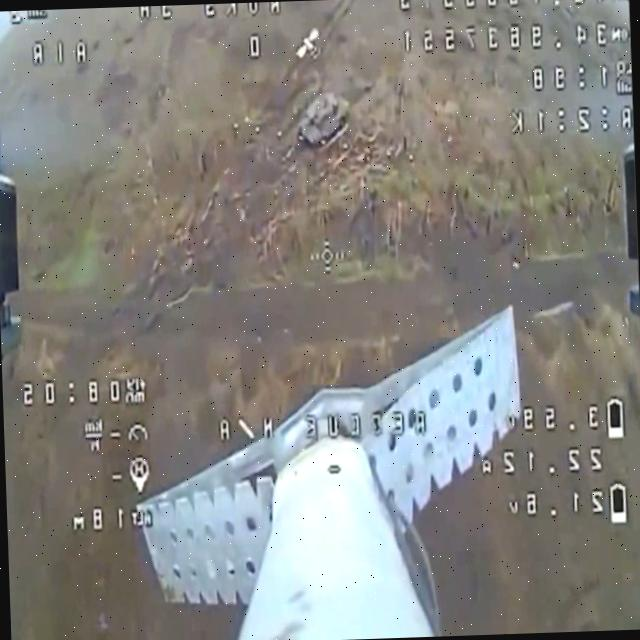MBT: (296, 90, 350, 148)
